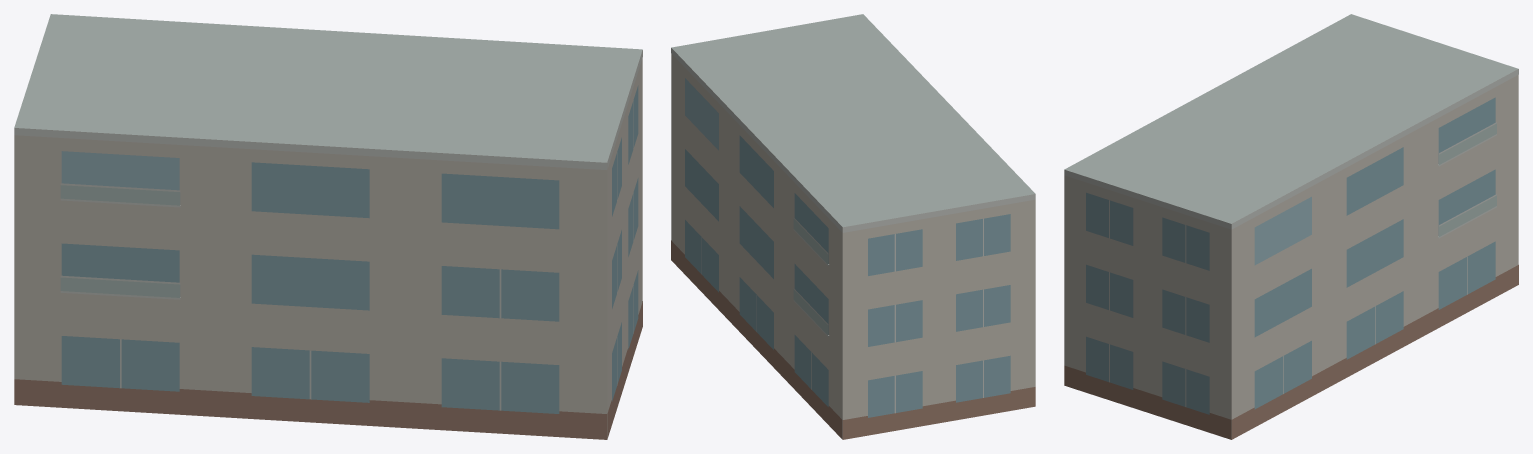
File: survey-upis-32628300.glb
3 views of the same model, side by side, from view 1: azimuth 30°, elevation 25°; view 2: azimuth 150°, elevation 25°; view 3: azimuth 270°, elevation 25° (orthographic). The views are drawn at different scales.
Parts seen in each view (by area): view 1: survey-upis-32628300.tmp; view 2: survey-upis-32628300.tmp; view 3: survey-upis-32628300.tmp.
Part boxes in pixels (bbox=[...]): survey-upis-32628300.tmp: bbox=[14, 14, 642, 439]; survey-upis-32628300.tmp: bbox=[671, 14, 1035, 439]; survey-upis-32628300.tmp: bbox=[1064, 14, 1518, 439].
Bounding box in the file's own units: 19.08 × 9.15 × 17.46.
